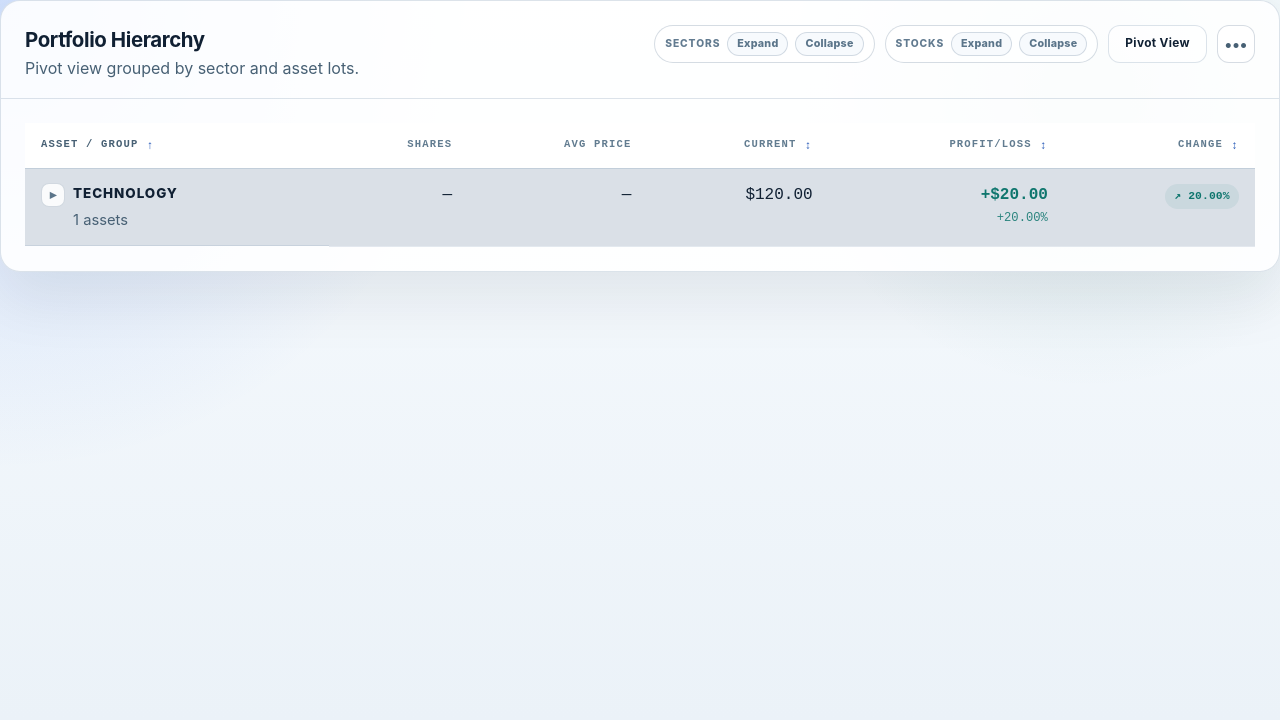
Scenario: PortfolioHierarchyTable › supports deterministic group and asset toggling by explicit control labels (fail-first)
Check: the text "AAPL" is not shown
Click the button named "Toggle group Technology".
click(53, 195)  # box [41,183,65,207]
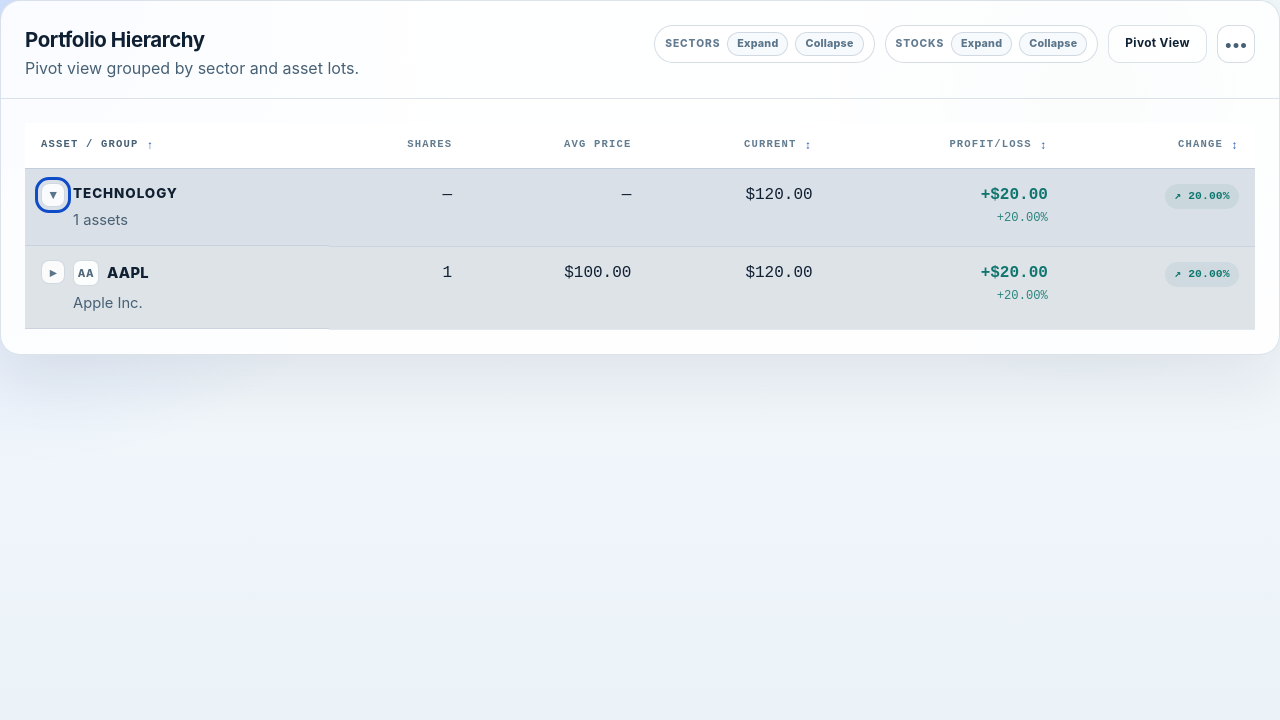
Check: the text "AAPL" is shown, box [107,262,149,284]
Click the button named "Toggle asset AAPL lots".
click(53, 272)  # box [41,260,65,284]
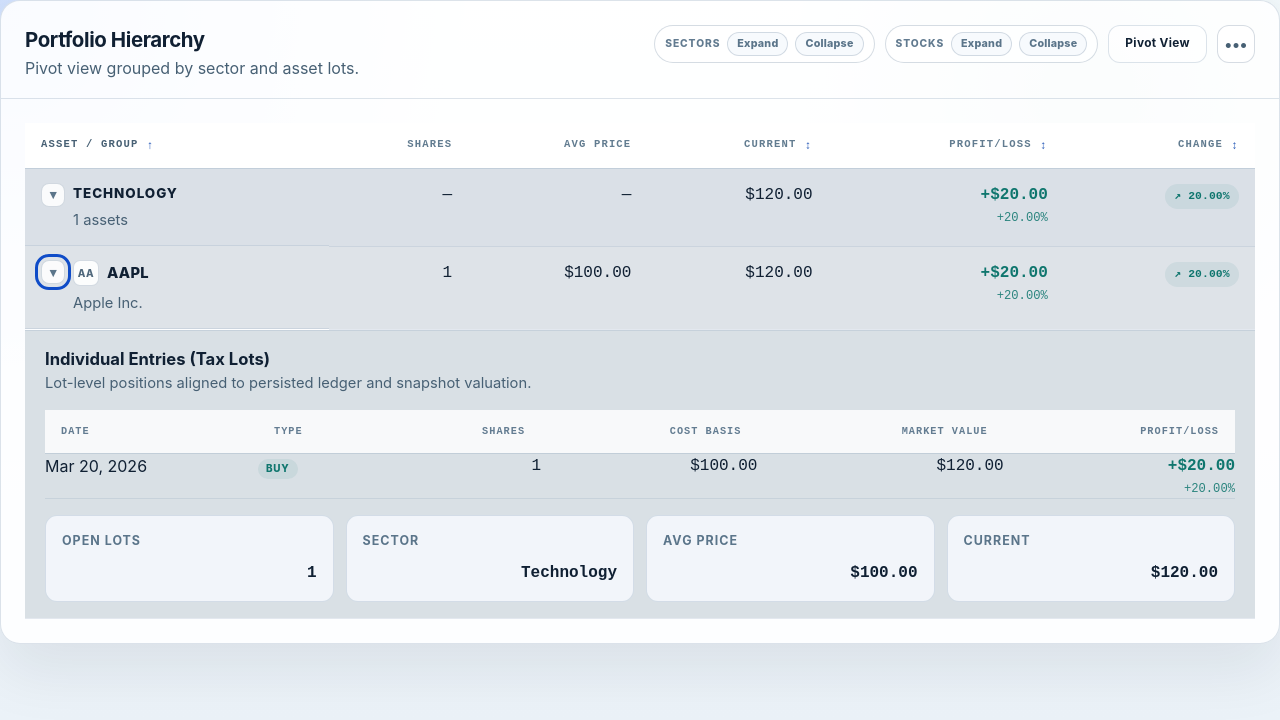
Check: the heading "Individual Entries (Tax Lots)" is shown, box [45,349,270,369]
